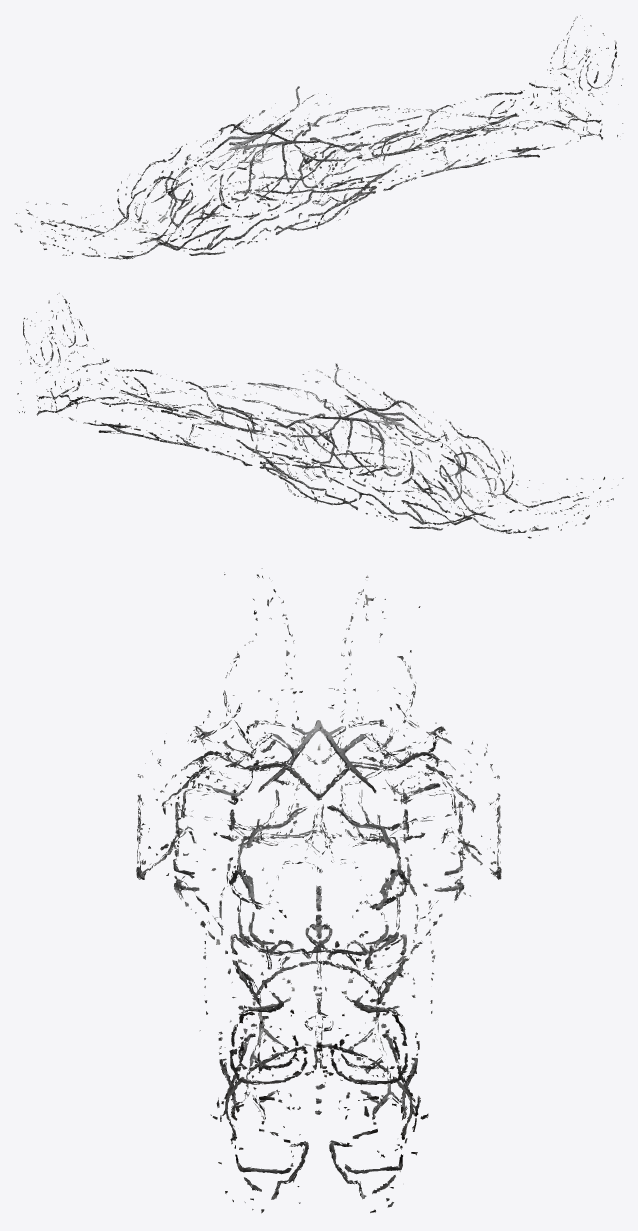
File: relic_1788634087_33422436.glb
3 renders of one model, top to bottom at view 1: azimuth 30°, elevation 25°; view 2: azimuth 150°, elevation 25°; view 3: azimuth 270°, elevation 25°, orthographic. The views are drawn at different scales.
Visible parts, largest first — view 1: Hero; view 2: Hero; view 3: Hero.
Part boxes in pixels (x1=…): Hero: x1=14, y1=15, x2=622, y2=259; Hero: x1=17, y1=293, x2=623, y2=538; Hero: x1=136, y1=568, x2=501, y2=1213.
Size of the model in its own units: 1 by 0.1956 by 0.2787.
Materials: 1 (1 with a texture image).
